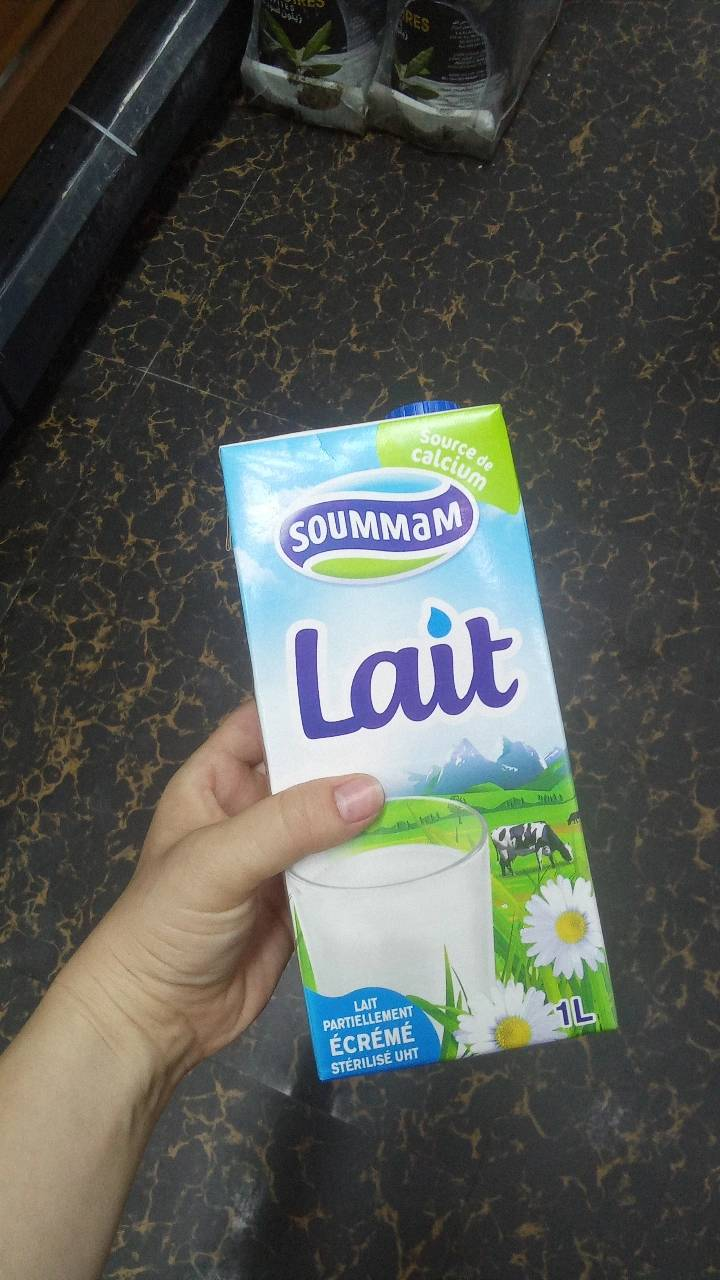soummam_milk: (209, 395, 606, 1084)
